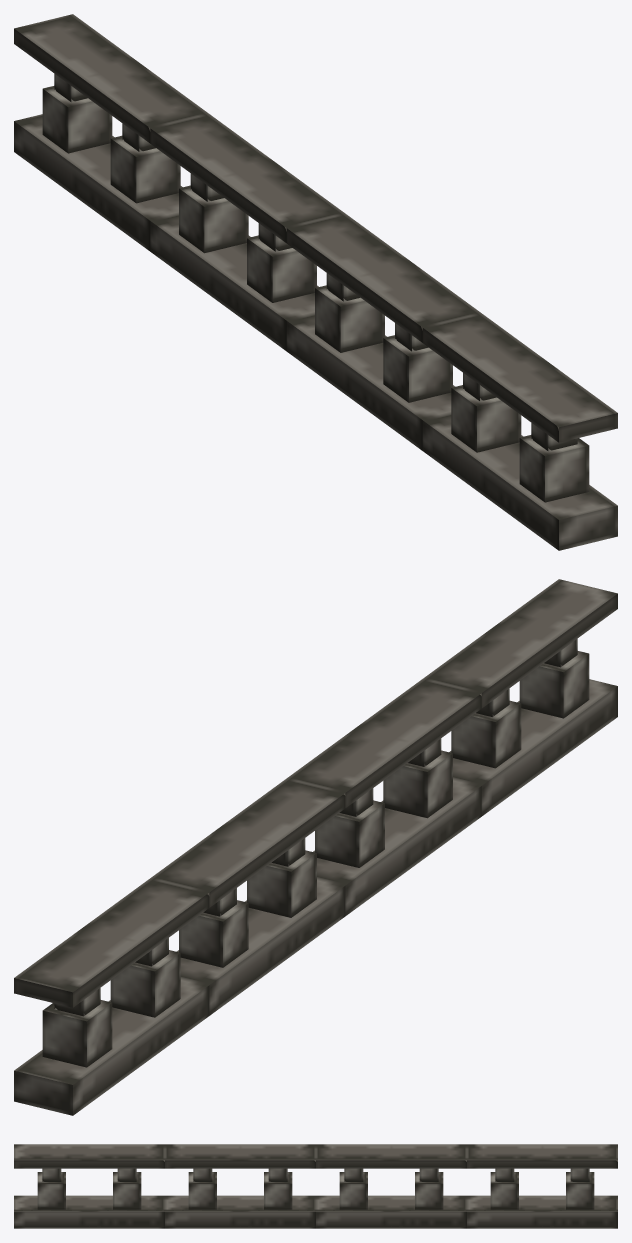
The model's file is Railing_x4.fbx.
3 views of the same model, one above another, from view 1: azimuth 30°, elevation 25°; view 2: azimuth 150°, elevation 25°; view 3: azimuth 270°, elevation 25° (orthographic). The views are drawn at different scales.
Parts seen in each view (by area): view 1: Railing_x4; view 2: Railing_x4; view 3: Railing_x4.
Part boxes in pixels (<box>): Railing_x4: <box>14,14,617,550</box>; Railing_x4: <box>14,579,617,1115</box>; Railing_x4: <box>14,1144,617,1228</box>.
Bounding box in the file's own units: 50 × 100 × 800.
1 material, 1 textured.
